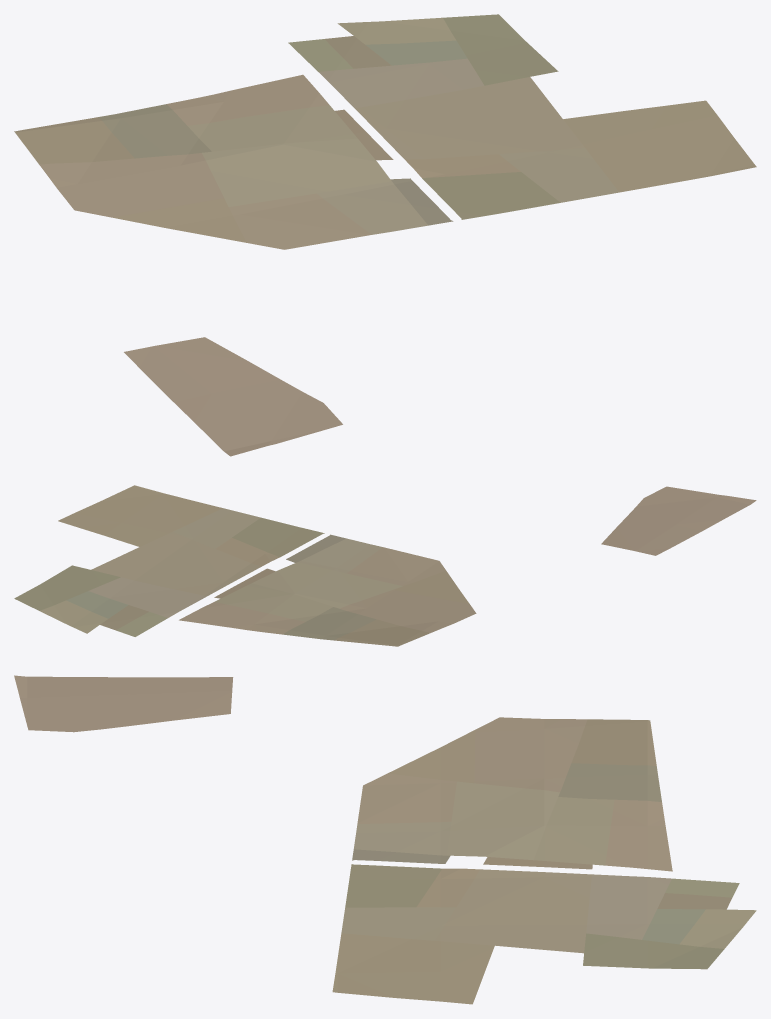
Rendered from farm_-5_9_soil.glb.
3 views of the same model, one above another, from view 1: azimuth 30°, elevation 25°; view 2: azimuth 150°, elevation 25°; view 3: azimuth 270°, elevation 25° (orthographic). The views are drawn at different scales.
Parts seen in each view (by area): view 1: geometry_0; view 2: geometry_0; view 3: geometry_0.
Part boxes in pixels (x1,y1,x2,y2): geometry_0: (14,14,756,456); geometry_0: (14,485,756,646); geometry_0: (14,675,756,1004).
Size of the model in its own units: 575 by 29.07 by 575.
